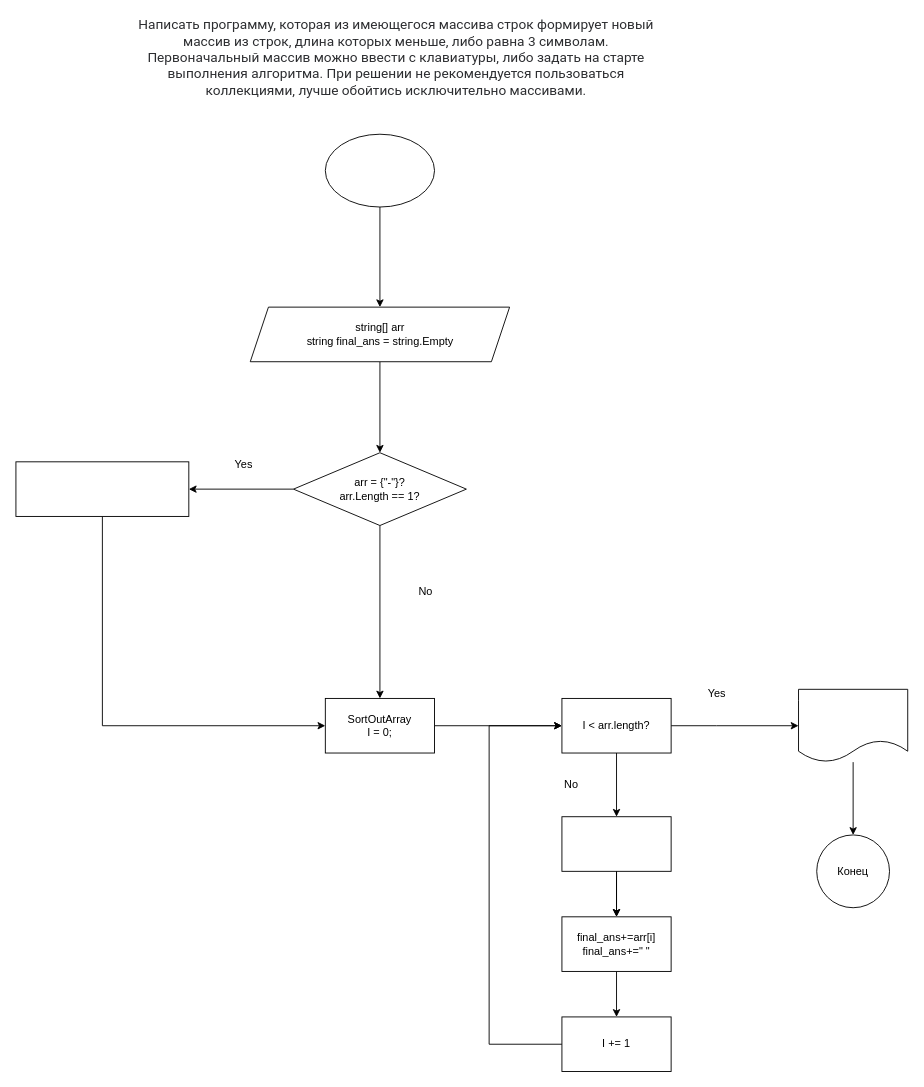
Image size: 924x1087. Some labels were removed from this diagram. Here are the shapes that lost their labels. From the top down, the centre of each, then its label:
(379,170): Начало
(102,488): arr =Console.Readline().Split(",")
(853,725): final_ans.Split(" ")
(616,843): arr[i].Length < 4?
